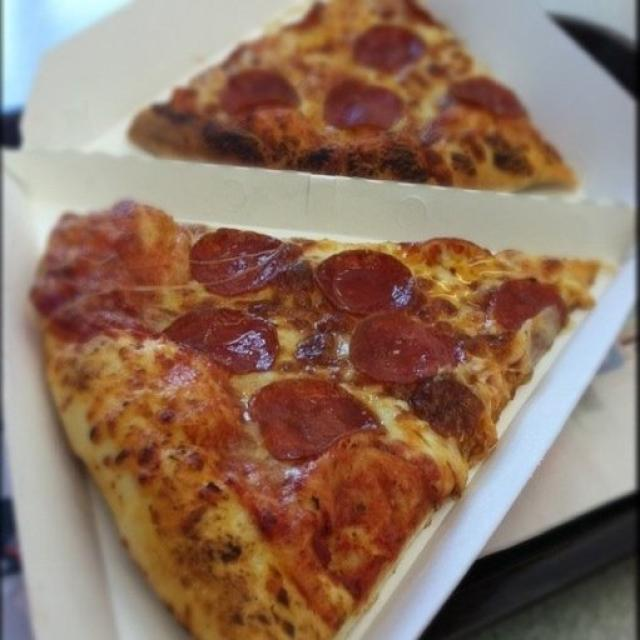Pepperoni: (250, 369, 386, 471), (150, 290, 284, 374), (343, 295, 446, 389), (306, 240, 416, 320), (482, 274, 572, 341), (196, 233, 292, 290), (224, 60, 302, 119), (324, 77, 408, 129), (440, 75, 528, 119), (360, 22, 420, 67)
Pizza: (33, 202, 597, 640), (130, 0, 576, 191)
